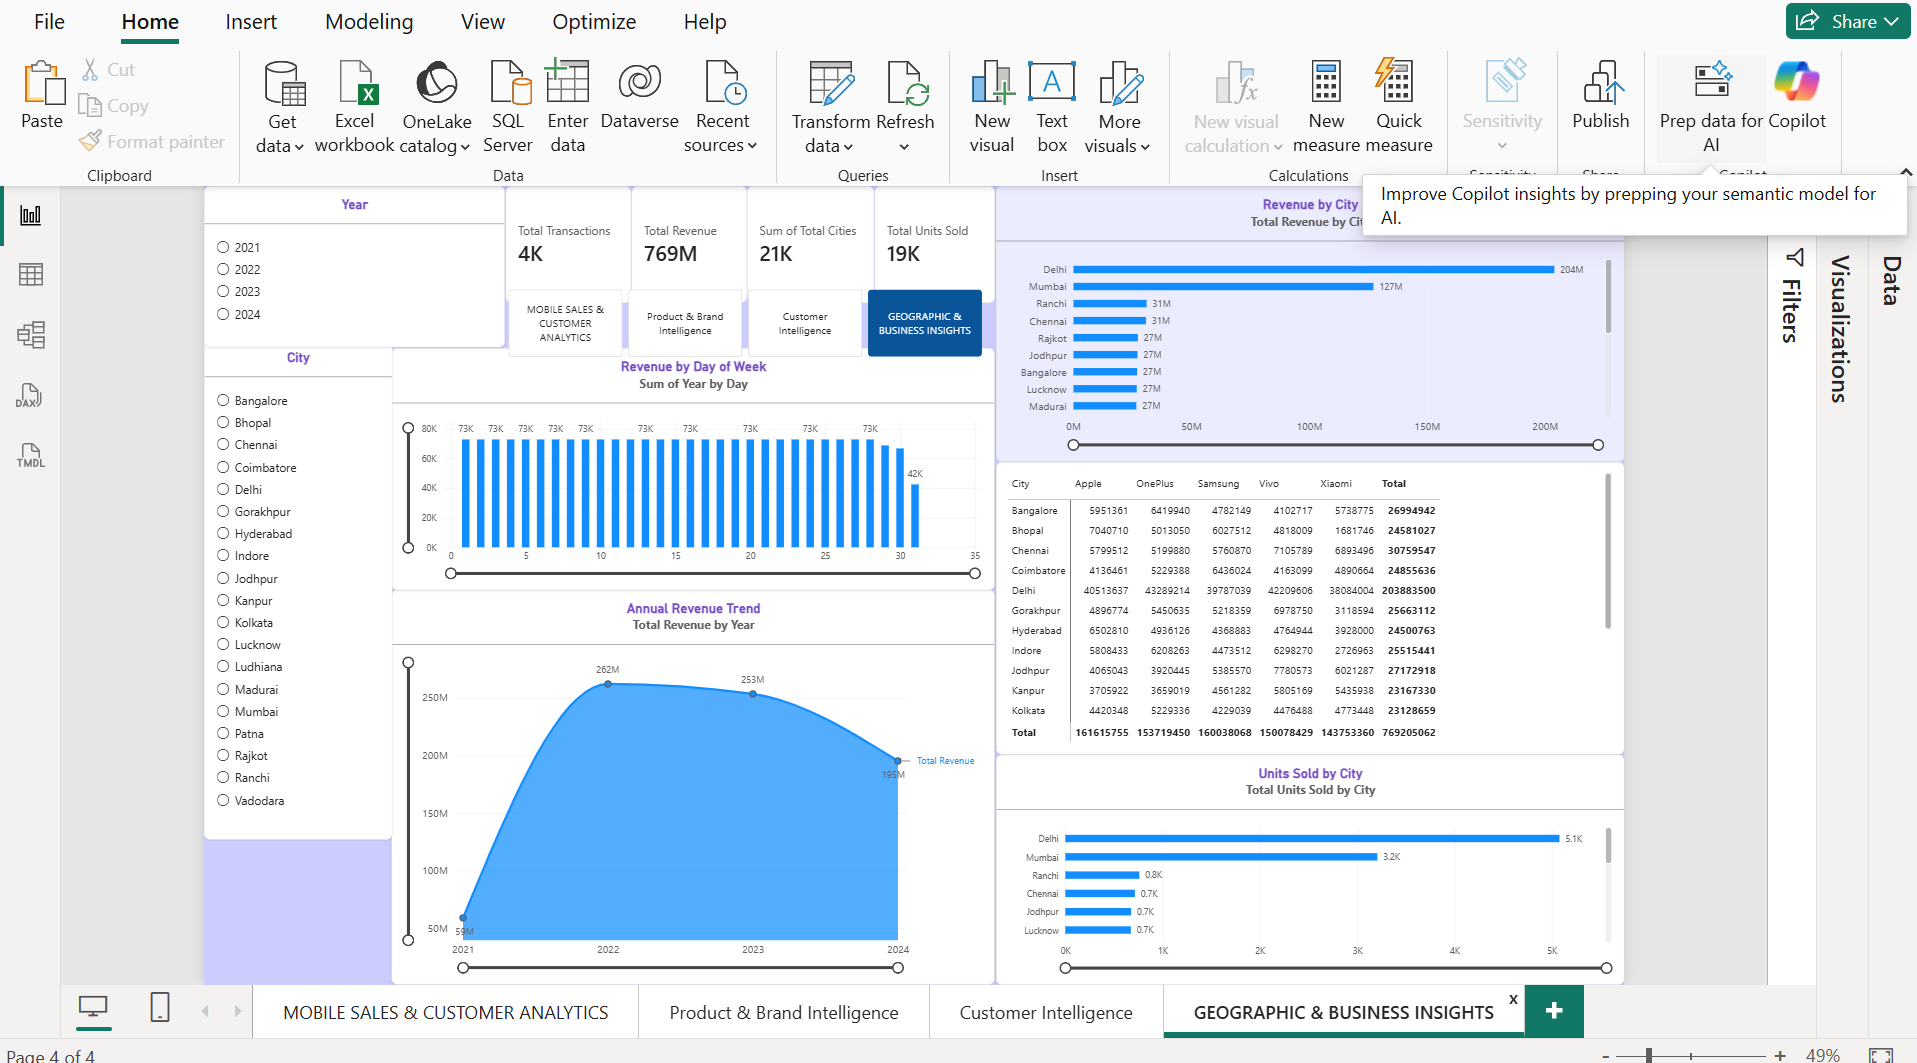

Layout of this report page (visuals, bound fields, positions):
{"tool":"powerbi","page":{"name":"GEOGRAPHIC & BUSINESS INSIGHTS","canvas":[1920,1080],"ordinal":3},"visuals":[{"type":"cardVisual","fields":{"Data":["Sheet1.Total Units Sold"]},"box":[906.3,0,163.5,159],"z":0},{"type":"cardVisual","fields":{"Data":["Sheet1.Total Revenue"]},"box":[576.9,0,156.7,159],"z":1000},{"type":"cardVisual","fields":{"Data":["Sum(DateTable.Total Cities)"]},"box":[733.6,0,172.6,159],"z":2000},{"type":"cardVisual","fields":{"Data":["Sheet1.Total Transactions"]},"box":[406.6,0,170.3,159],"z":3000},{"type":"clusteredBarChart","title":"Revenue by City","fields":{"Category":["Sheet1.City"],"Y":["Sheet1.Total Revenue"]},"box":[1069.8,0,849.5,372.5],"z":4000},{"type":"clusteredBarChart","title":"Units Sold by City","fields":{"Category":["Sheet1.City"],"Y":["Sheet1.Total Units Sold"]},"box":[1069.8,767.7,849.5,311.2],"z":5000},{"type":"lineChart","title":"Annual Revenue Trend","fields":{"Category":["DateTable.Year"],"Y":["Sheet1.Total Revenue"]},"box":[254.4,545.1,815.4,533.8],"z":6000},{"type":"clusteredColumnChart","title":"Revenue by Day of Week","fields":{"Category":["DateTable.Date.Variation.Date Hierarchy.Day"],"Y":["Sum(DateTable.Year)"]},"box":[254.4,218,815.4,327.1],"z":7000},{"type":"pivotTable","fields":{"Columns":["Sheet1.Brand"],"Rows":["Sheet1.City"],"Values":["Sheet1.Total Revenue"]},"box":[1069.8,372.5,849.5,395.2],"z":7001},{"type":"listSlicer","fields":{"Values":["Sheet1.City"]},"box":[0,206.7,254.4,676.8],"z":7002},{"type":"listSlicer","fields":{"Values":["DateTable.Year"]},"box":[0,0,406.6,218],"z":7003},{"type":"pageNavigator","box":[411.6,139.9,642.7,91.2],"z":7004}]}

Visuals, with their boxes on the page's 1920x1080 design canvas (x1, y1, x2, y2). These are canvas units, not pixel positions in the 1917x1063 screenshot, which may show the page scaled, cropped or inside an application window:
cardVisual - Sheet1.Total Units Sold: {"x1": 906, "y1": 0, "x2": 1070, "y2": 159}
cardVisual - Sheet1.Total Revenue: {"x1": 577, "y1": 0, "x2": 734, "y2": 159}
cardVisual - Sum(DateTable.Total Cities): {"x1": 734, "y1": 0, "x2": 906, "y2": 159}
cardVisual - Sheet1.Total Transactions: {"x1": 407, "y1": 0, "x2": 577, "y2": 159}
"Revenue by City" clusteredBarChart: {"x1": 1070, "y1": 0, "x2": 1919, "y2": 372}
"Units Sold by City" clusteredBarChart: {"x1": 1070, "y1": 768, "x2": 1919, "y2": 1079}
"Annual Revenue Trend" lineChart: {"x1": 254, "y1": 545, "x2": 1070, "y2": 1079}
"Revenue by Day of Week" clusteredColumnChart: {"x1": 254, "y1": 218, "x2": 1070, "y2": 545}
pivotTable - Sheet1.Brand x Sheet1.City: {"x1": 1070, "y1": 372, "x2": 1919, "y2": 768}
listSlicer - Sheet1.City: {"x1": 0, "y1": 207, "x2": 254, "y2": 884}
listSlicer - DateTable.Year: {"x1": 0, "y1": 0, "x2": 407, "y2": 218}
pageNavigator: {"x1": 412, "y1": 140, "x2": 1054, "y2": 231}
